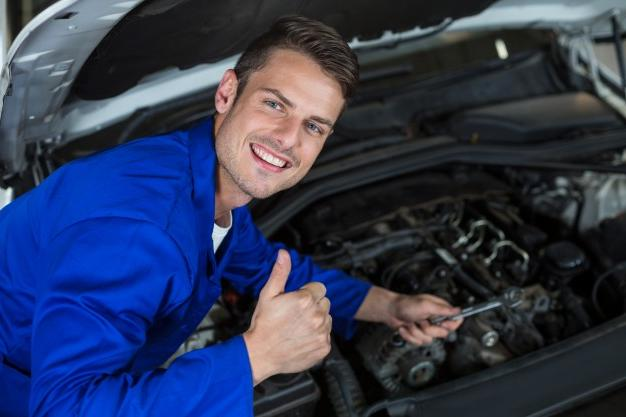thumbsup: (269, 249, 334, 373)
